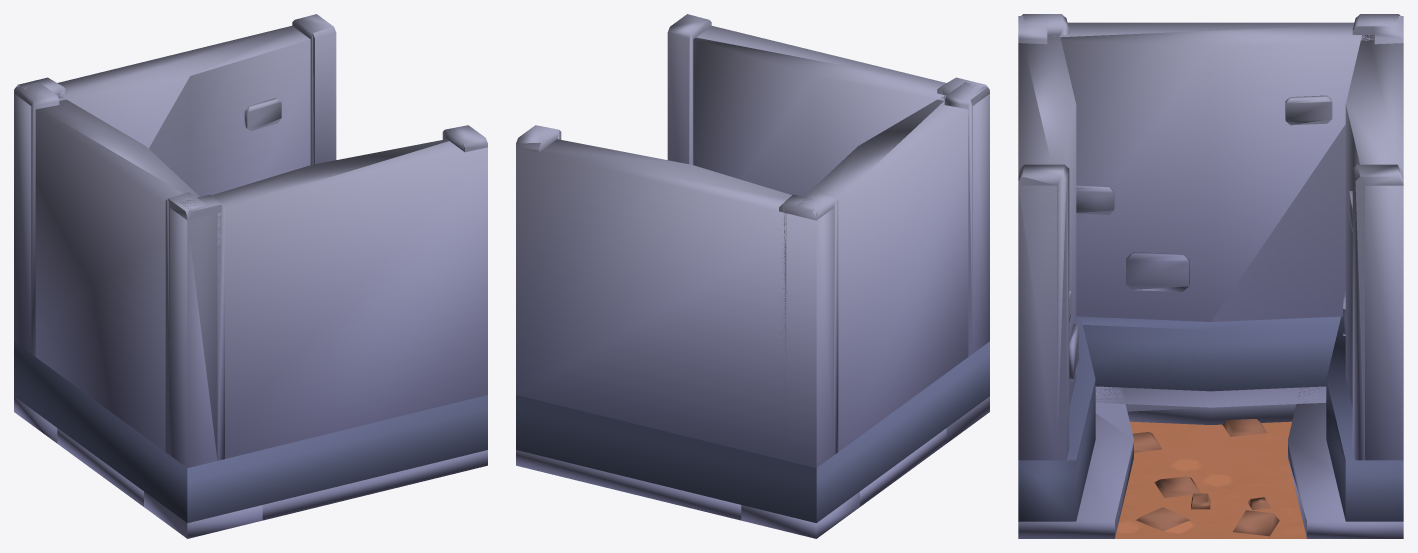
Rendered from corridor-end.fbx.
3 renders of one model, left to right at view 1: azimuth 30°, elevation 25°; view 2: azimuth 150°, elevation 25°; view 3: azimuth 270°, elevation 25°, orthographic. The views are drawn at different scales.
Parts seen in each view (by area): view 1: corridor-end; view 2: corridor-end; view 3: corridor-end.
Part boxes in pixels (x1=…): corridor-end: x1=14, y1=14, x2=487, y2=538; corridor-end: x1=516, y1=14, x2=989, y2=538; corridor-end: x1=1018, y1=14, x2=1403, y2=538.
Size of the model in its own units: 400 by 415 by 400.
